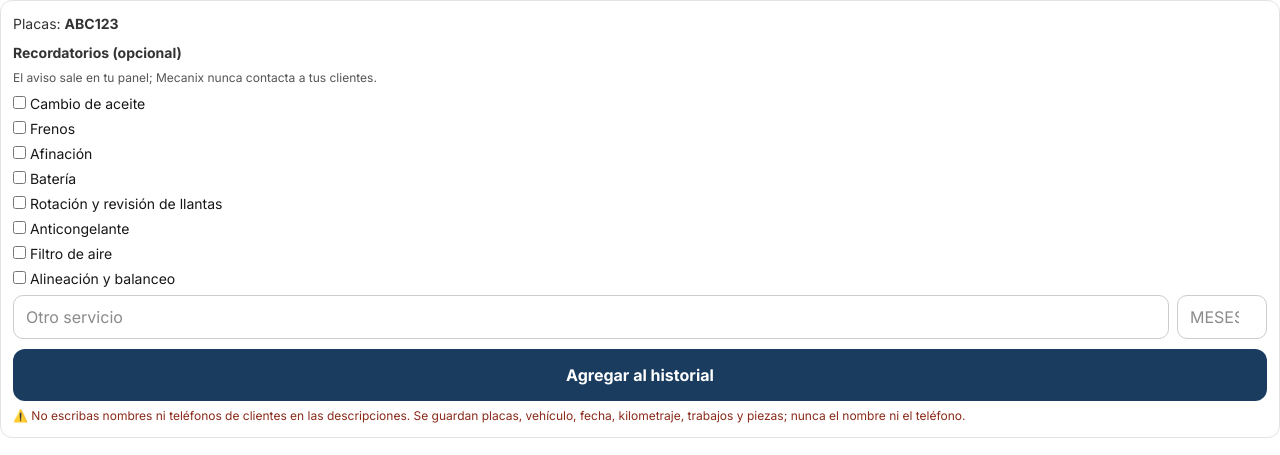
recordatorios al agregar (etapa 3) › si fallan los recordatorios: el servicio sí queda y se avisa
Click the checkbox labelled "Frenos".
click(20, 128)  # box [13, 121, 26, 134]
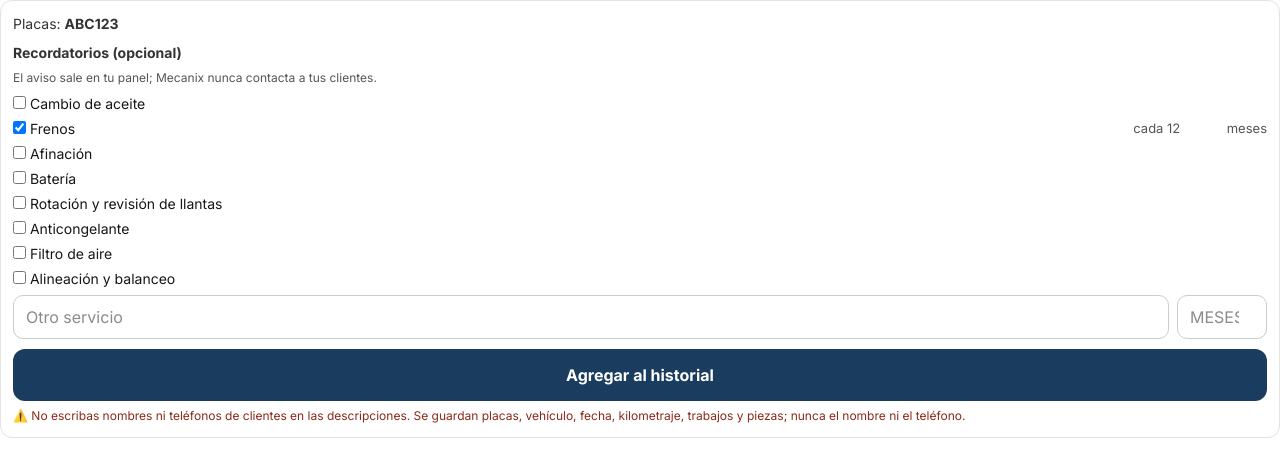
Click the button "Agregar al historial".
click(640, 375)  # box [13, 349, 1267, 401]
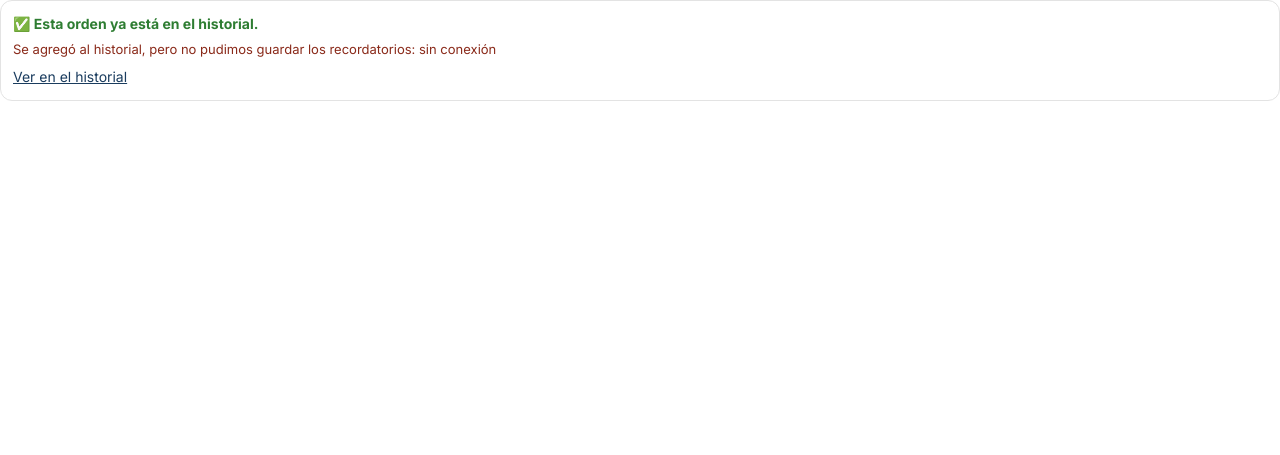
Expected: the text "✅ Esta orden ya está en el historial." is shown, [13, 15, 258, 32]
Expected: the message shows "Se agregó al historial, pero no pudimos guardar los recordatorios", [13, 41, 496, 57]
